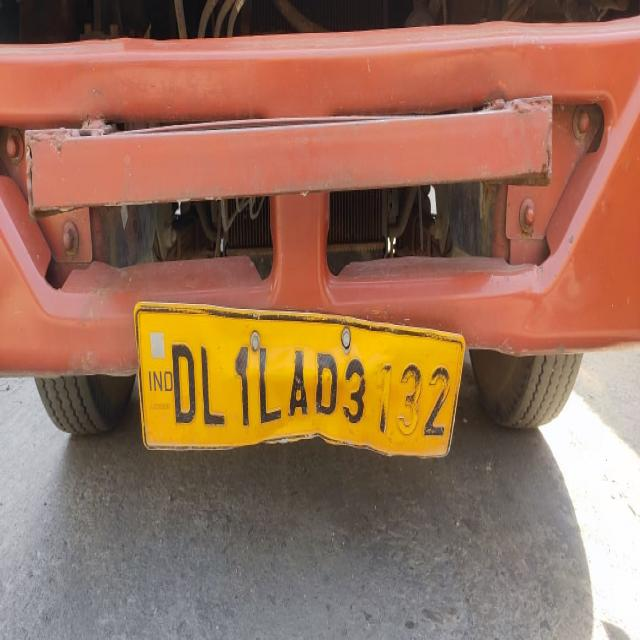License-plate: (137, 290, 466, 468)
